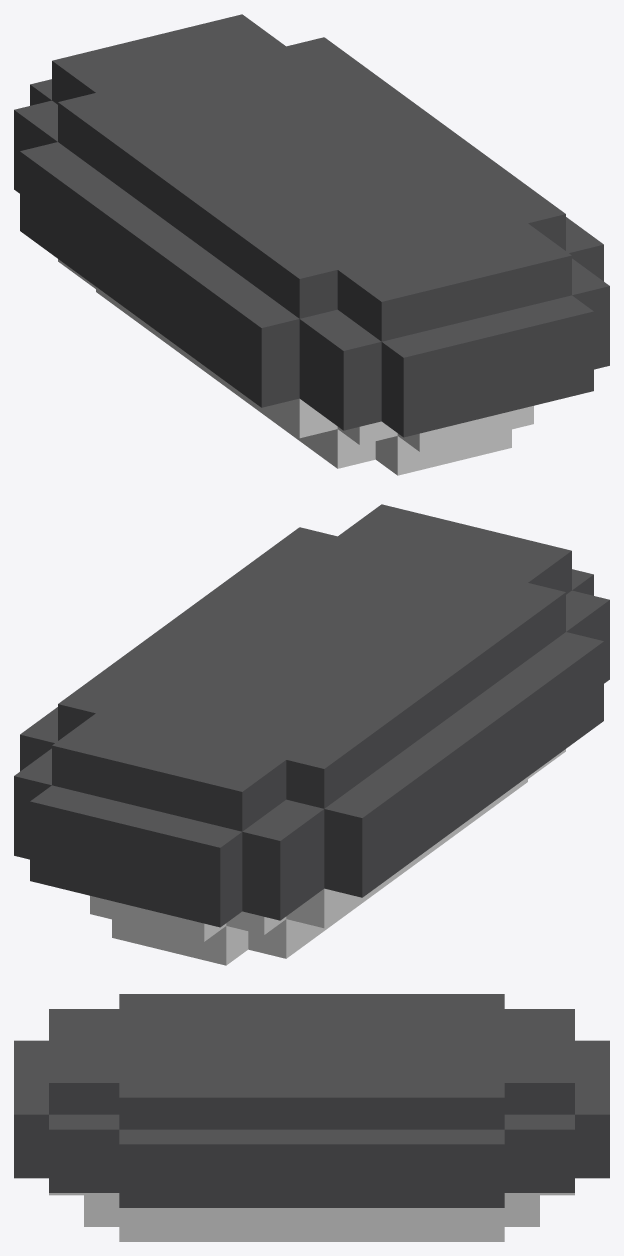
The model's file is Architeture1-0.obj.
3 views of the same model, one above another, from view 1: azimuth 30°, elevation 25°; view 2: azimuth 150°, elevation 25°; view 3: azimuth 270°, elevation 25° (orthographic). The views are drawn at different scales.
Size of the model in its own units: 0.9 by 0.5 by 1.7.
1 material, 1 textured.
